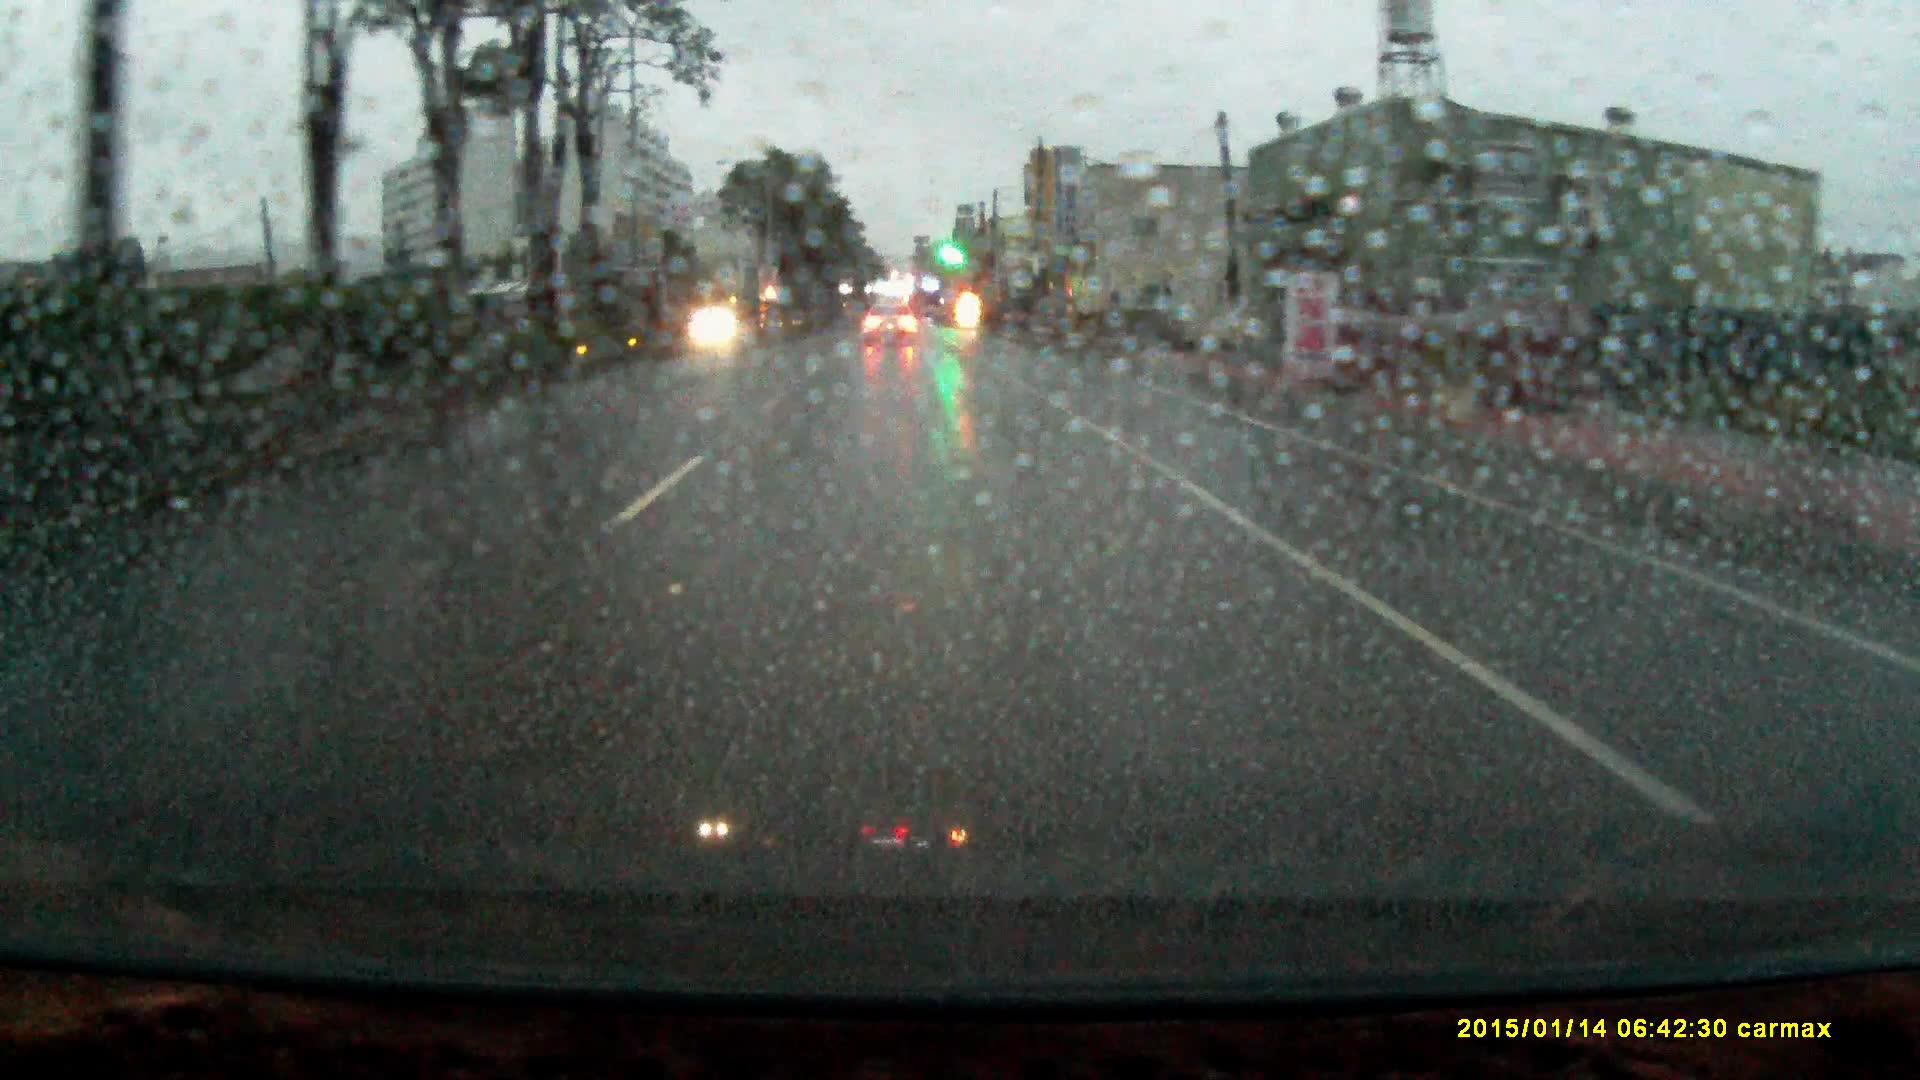vehicle: (864, 299, 918, 343)
